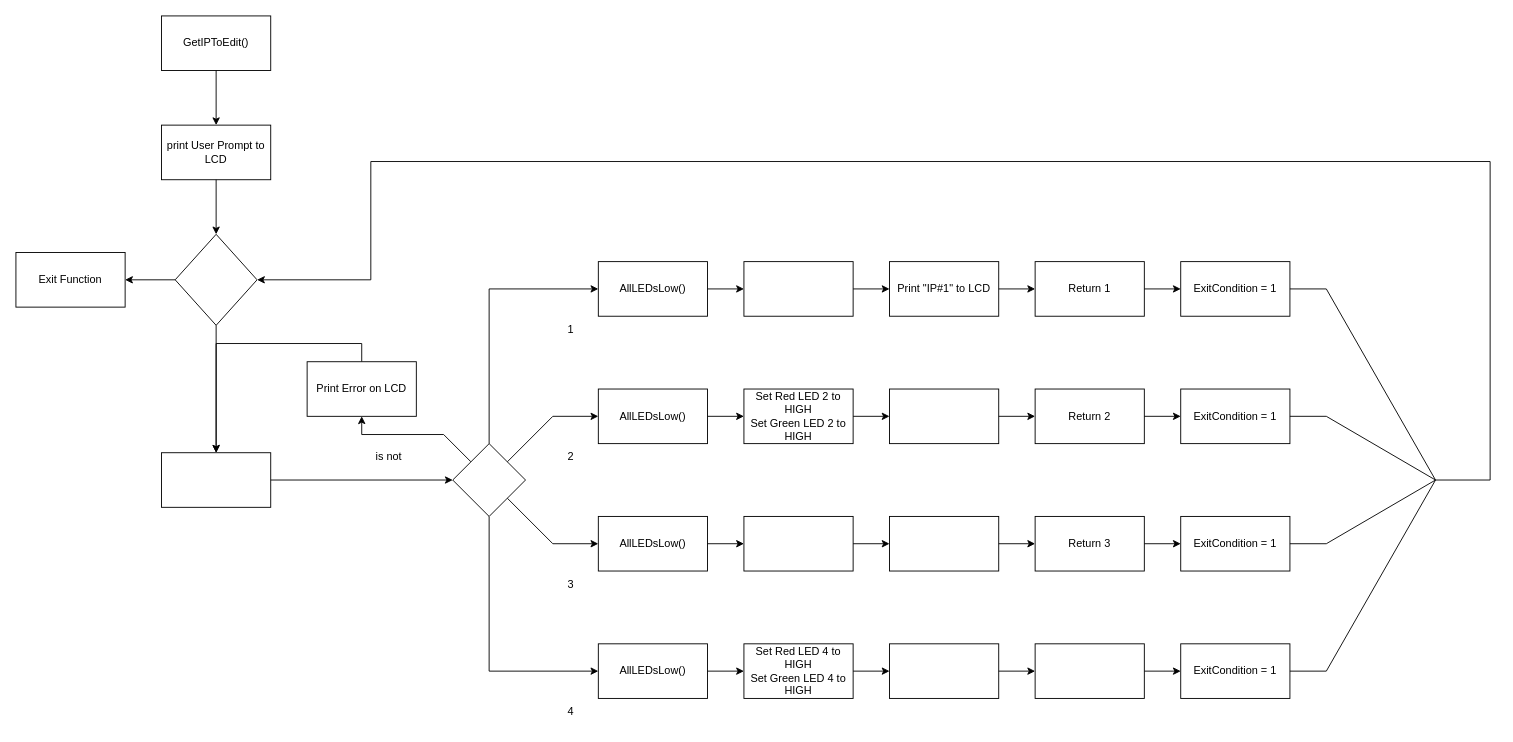
Image size: 1513x742. Some labels were removed from this diagram. The shapes that lost their labels are listed below. From the top down, each one's centre as x and y in pixels, then its label:
pixel 215 279: Check for exitcondition
pixel 798 288: Set Red LED 1 to HIGH Set Green LED 1 to HIGH
pixel 944 416: Print "IP#2" to LCD
pixel 216 479: Wait for Keypad input
pixel 489 479: 1,2,3 or 4?
pixel 798 543: Set Red LED 3 to HIGH Set Green LED 3 to HIGH
pixel 944 543: Print "IP#3" to LCD
pixel 944 670: Print "IP#4" to LCD
pixel 1089 670: Return 4
